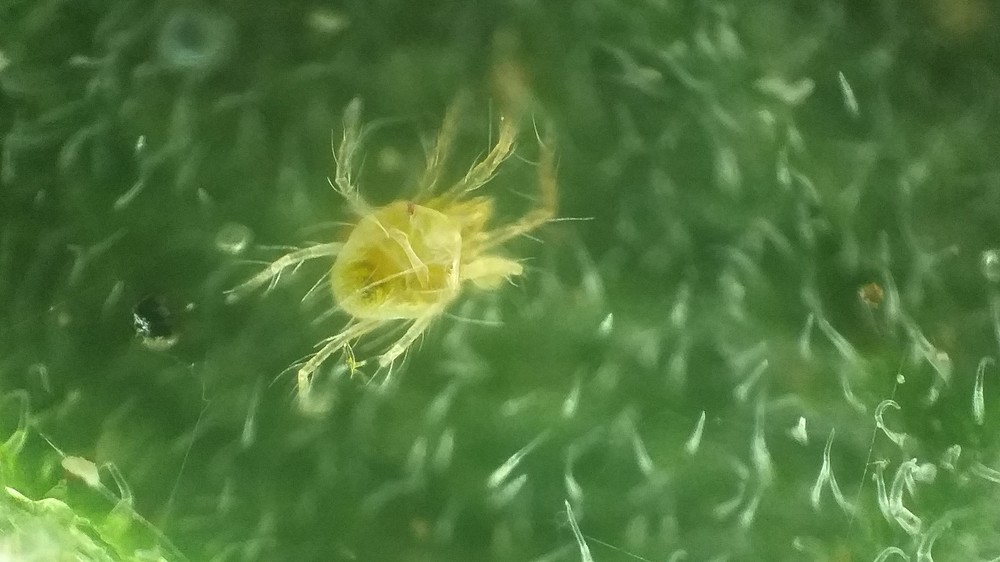Aracnido Rojo: (209, 90, 603, 414)
